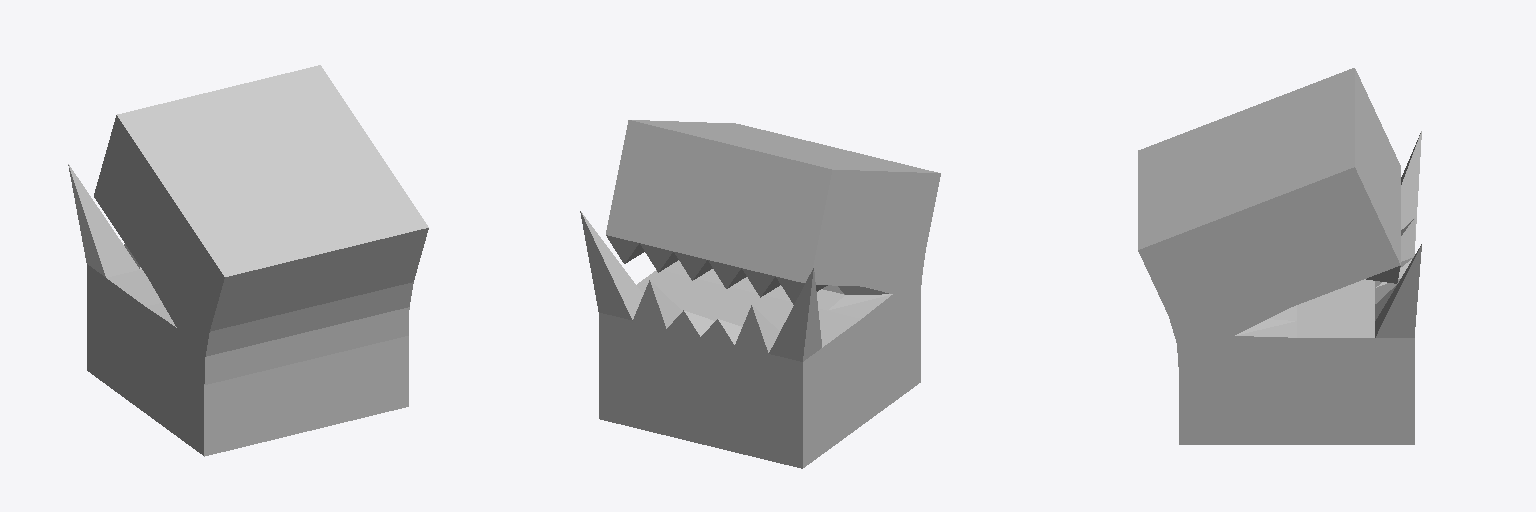
Rendered from SquareMonster.obj.
The picture shows the model from 3 angles: view 1: azimuth 30°, elevation 25°; view 2: azimuth 150°, elevation 25°; view 3: azimuth 270°, elevation 25°; orthographic projection.
Parts seen in each view (by area): view 1: Cube.001_Cube.002; view 2: Cube.001_Cube.002; view 3: Cube.001_Cube.002.
Part boxes in pixels (left/top/right/bottom): Cube.001_Cube.002: left=68, top=65, right=428, bottom=456; Cube.001_Cube.002: left=580, top=120, right=940, bottom=468; Cube.001_Cube.002: left=1138, top=68, right=1421, bottom=444.
Bounding box in the file's own units: 5.38 × 6.1 × 5.66.